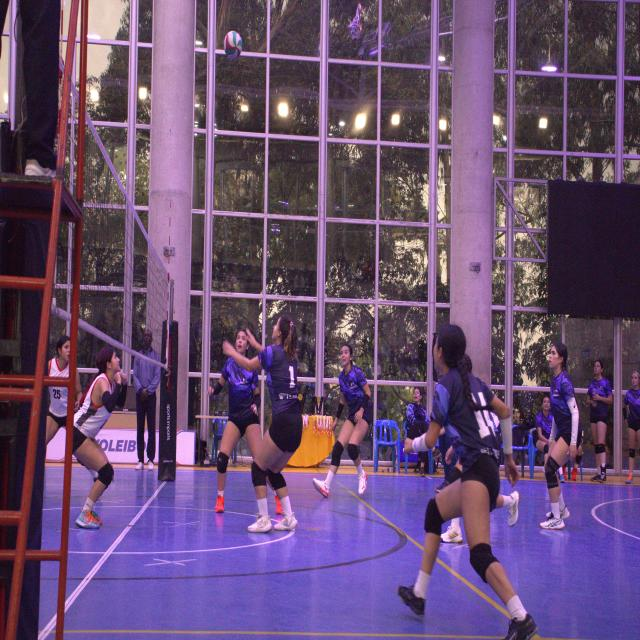volleyball: (225, 29, 242, 59)
